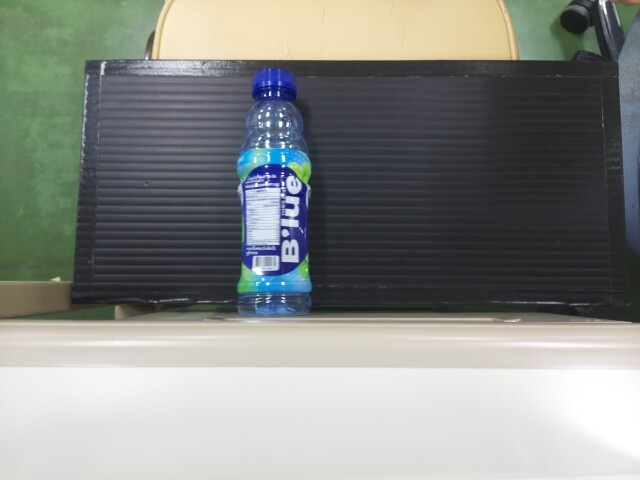plastic_bottle: (235, 58, 312, 314)
